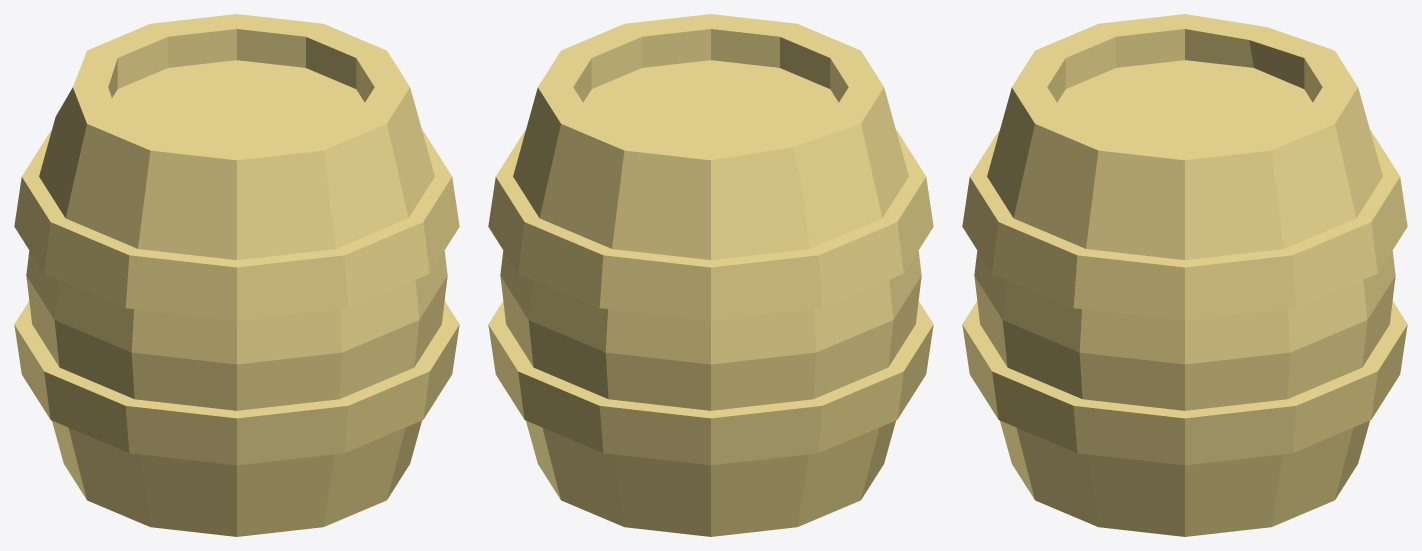
File: Barrel.fbx
The picture shows the model from 3 angles, left to right: view 1: azimuth 30°, elevation 25°; view 2: azimuth 150°, elevation 25°; view 3: azimuth 270°, elevation 25°; orthographic projection.
Visible parts, largest first — view 1: Barrel; view 2: Barrel; view 3: Barrel.
Part boxes in pixels (x1,y1,x2,y2): Barrel: (14, 14, 459, 536); Barrel: (488, 14, 933, 536); Barrel: (962, 14, 1407, 536).
Size of the model in its own units: 93.22 by 86.99 by 93.22.
